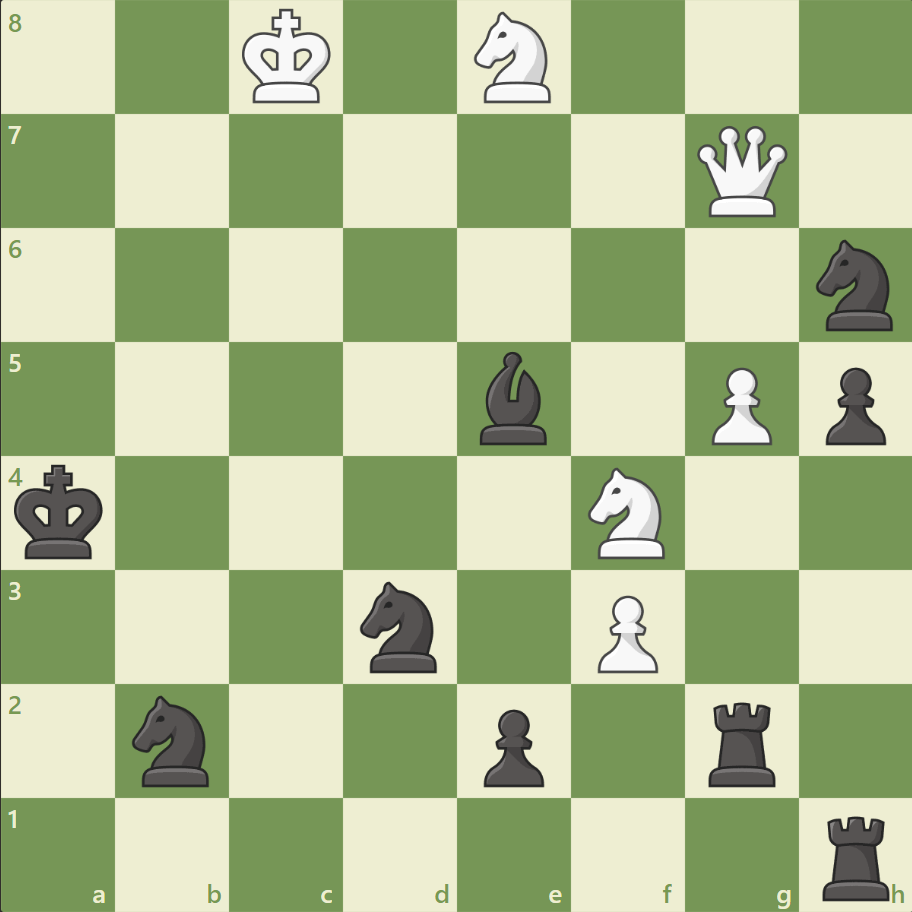K: (238, 4, 338, 112)
N: (465, 7, 562, 110), (579, 461, 676, 564)
P: (701, 359, 776, 450), (588, 586, 662, 677)
Q: (691, 122, 790, 222)
b: (471, 347, 555, 449)
k: (11, 458, 111, 566)
n: (124, 688, 222, 791), (351, 575, 449, 677), (806, 234, 903, 337)
p: (474, 700, 549, 791), (815, 359, 889, 450)
r: (814, 806, 897, 904), (700, 693, 783, 790)
